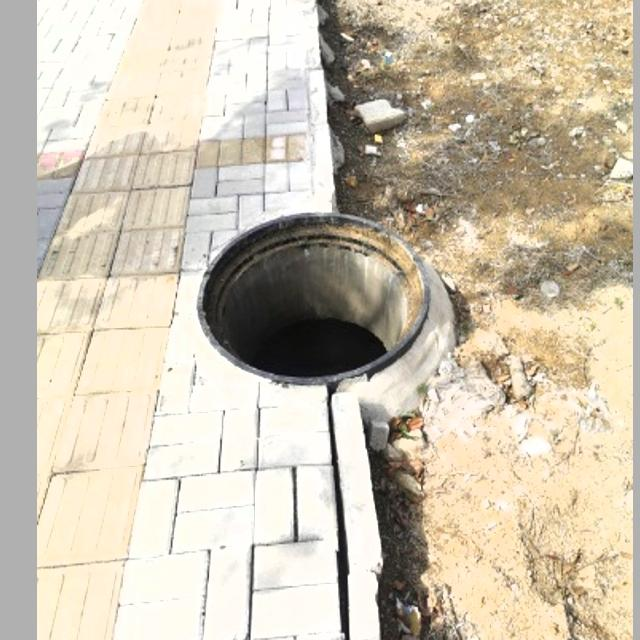lose: (194, 211, 430, 383)
